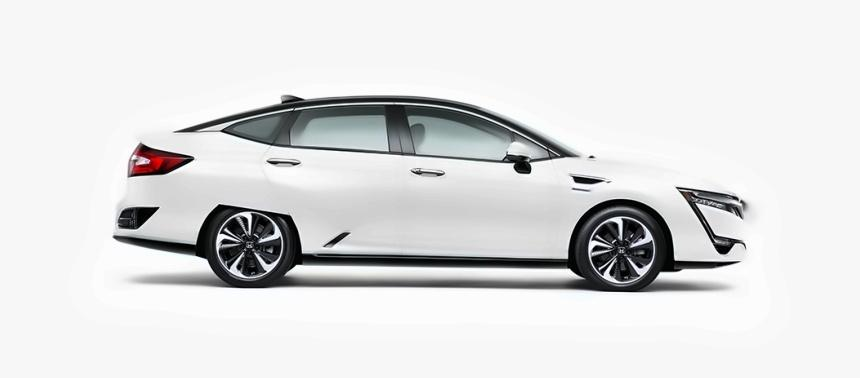Driver-s door - -F-R-: (390, 89, 570, 270)
Fender - -F-R-: (548, 139, 674, 267)
Fender - -R-R-: (178, 100, 292, 236)
Front bumper: (671, 225, 749, 272)
Headlight - -R-: (677, 187, 753, 221)
Passenger-s door - -R-R-: (257, 90, 418, 270)
Rear bumper: (102, 176, 201, 256)
Rear light - -R-: (124, 141, 195, 178)
Side bumper - -R-: (295, 235, 574, 278)
Side mirror - -R-: (503, 142, 534, 174)
